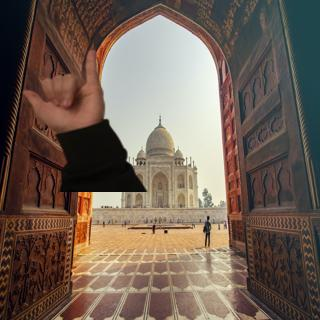HAVE: (16, 46, 111, 138)
